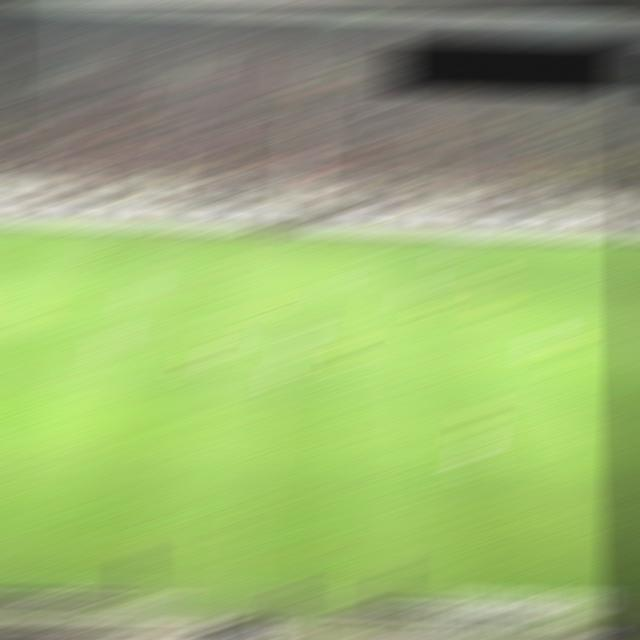bigarea_top_inner: (585, 274, 618, 284)
halfcircle_bottom: (256, 379, 287, 385)
halfcircle_top: (269, 301, 298, 306)
midline_bottom_intersection: (220, 584, 255, 594)
midline_top_intersection: (279, 234, 308, 239)
